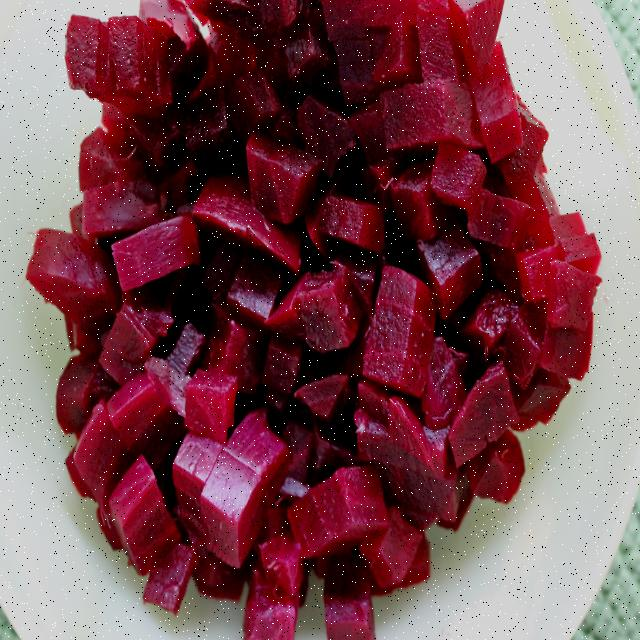Beetroot: (48, 71, 335, 417), (239, 219, 492, 580), (277, 9, 510, 264)
